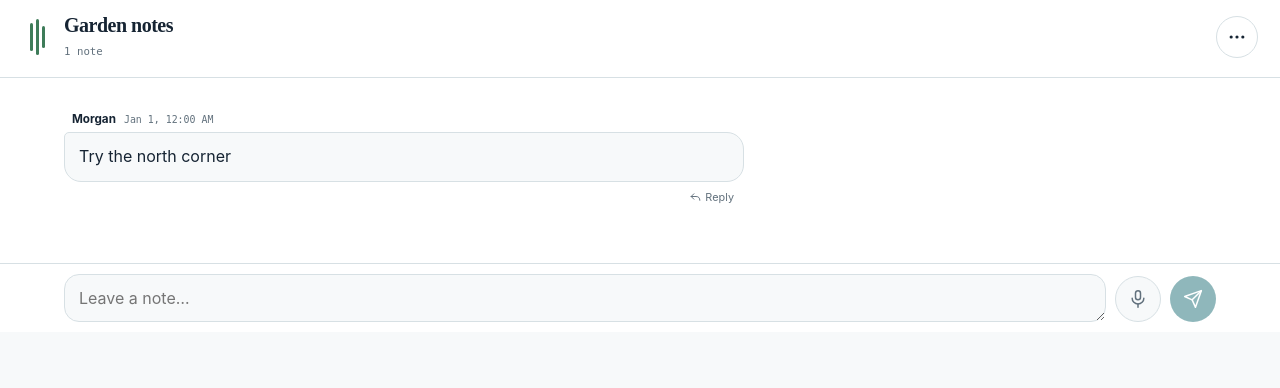
it: Conversation › does not submit the message when recording starts
What coordinates should you click on to do the following:
click the button named "Record a voice note"
I would click on:
 (1138, 299)
Its box is left=1115, top=276, right=1161, bottom=322.
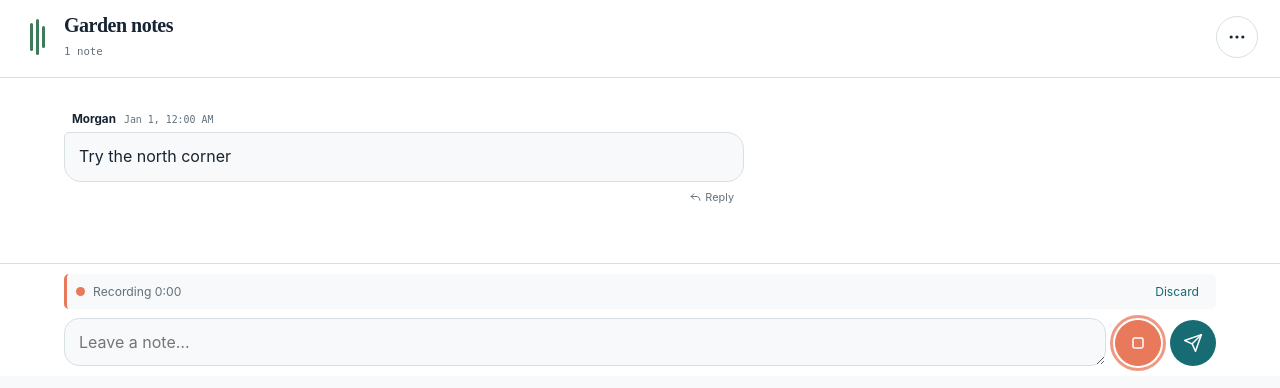
Now the text "Recording 0:00" is shown, box left=93, top=284, right=181, bottom=299
